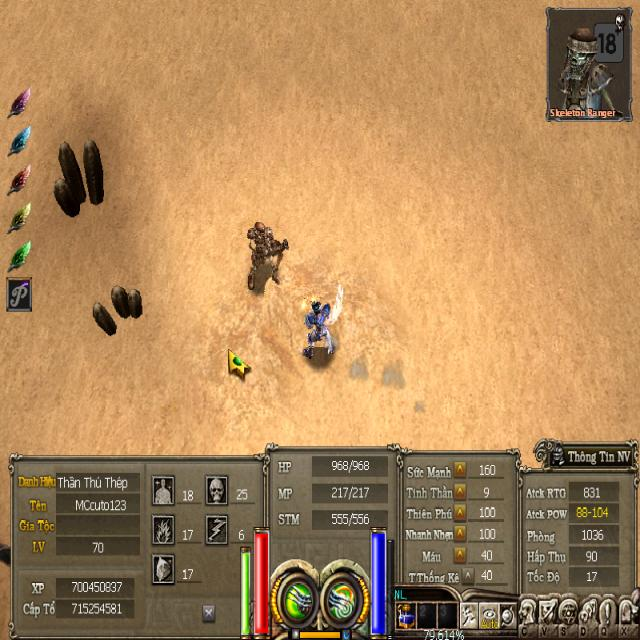monster: (244, 225, 286, 284)
